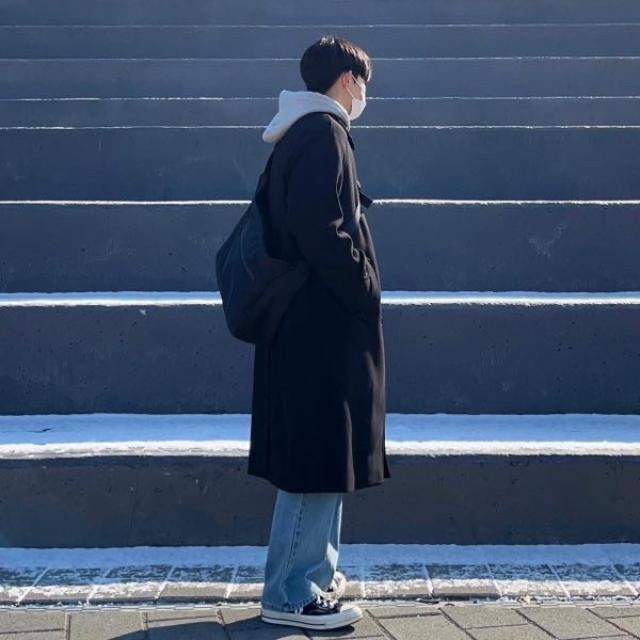coat: (244, 114, 391, 493)
denimpants: (260, 486, 343, 614)
